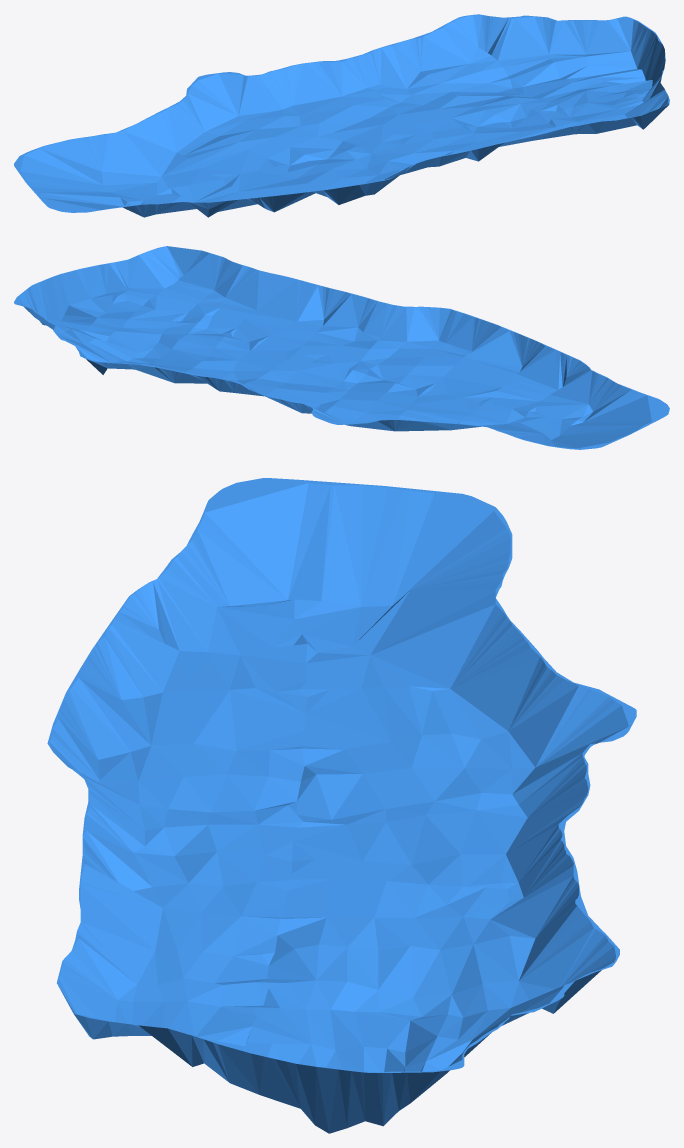
File: lake2.glb
The picture shows the model from 3 angles, top to bottom: view 1: azimuth 30°, elevation 25°; view 2: azimuth 150°, elevation 25°; view 3: azimuth 270°, elevation 25°; orthographic projection. The views are drawn at different scales.
Visible parts, largest first — view 1: delaunay_obj_1; view 2: delaunay_obj_1; view 3: delaunay_obj_1.
Boxes of the visible parts, x1,y1,x2,y2 form: delaunay_obj_1: [14, 14, 669, 217]; delaunay_obj_1: [14, 246, 669, 449]; delaunay_obj_1: [47, 478, 636, 1133].
Size of the model in its own units: 190 by 11.75 by 79.5.
